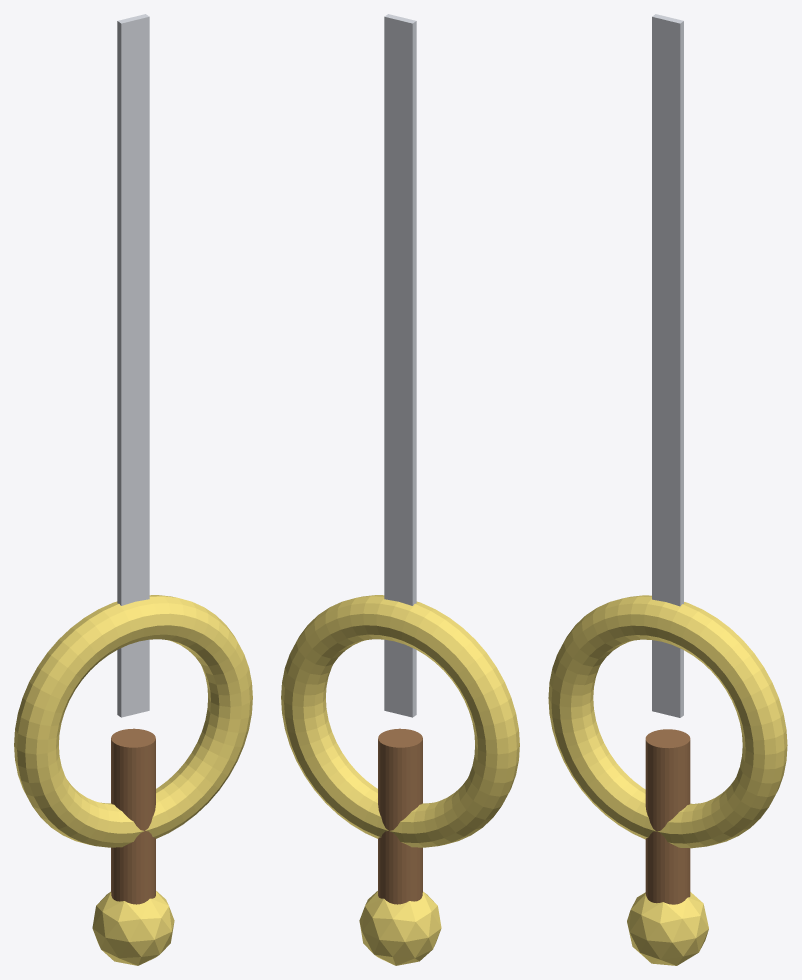
Rendered from weapon_steel_sword.glb.
3 views of the same model, side by side, from view 1: azimuth 30°, elevation 25°; view 2: azimuth 150°, elevation 25°; view 3: azimuth 330°, elevation 25° (orthographic).
Parts seen in each view (by area): view 1: Torus, Cube, Cylinder, Icosphere; view 2: Torus, Cube, Cylinder, Icosphere; view 3: Torus, Cube, Cylinder, Icosphere.
Part boxes in pixels (x1,y1,x2,y2): Torus: (14,595,252,847); Cube: (117,14,149,717); Cylinder: (111,728,155,904); Icosphere: (92,891,174,965); Torus: (281,595,519,847); Cube: (384,14,416,717); Cylinder: (378,728,422,904); Icosphere: (359,891,441,965); Torus: (548,595,787,848); Cube: (652,14,683,717); Cylinder: (645,729,690,904); Icosphere: (627,892,708,965).
Bounding box in the file's own units: 0.288 × 1.11 × 0.09.
